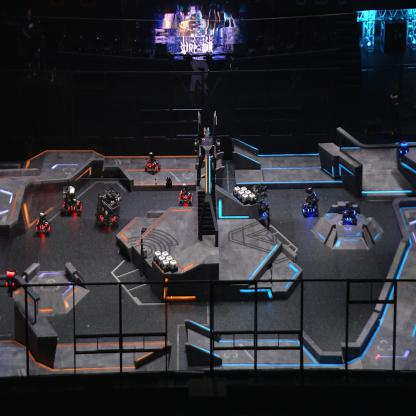car: (95, 186, 122, 232), (248, 182, 272, 224), (62, 184, 83, 216), (300, 186, 320, 217), (34, 210, 52, 236), (145, 150, 161, 174), (342, 200, 357, 225), (179, 182, 193, 206)
